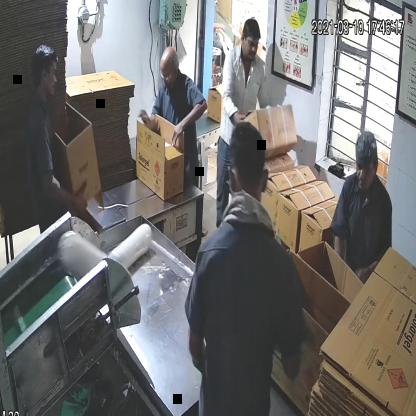no_glove: (38, 159, 94, 223), (170, 94, 212, 146), (216, 81, 253, 134), (136, 96, 158, 137)
